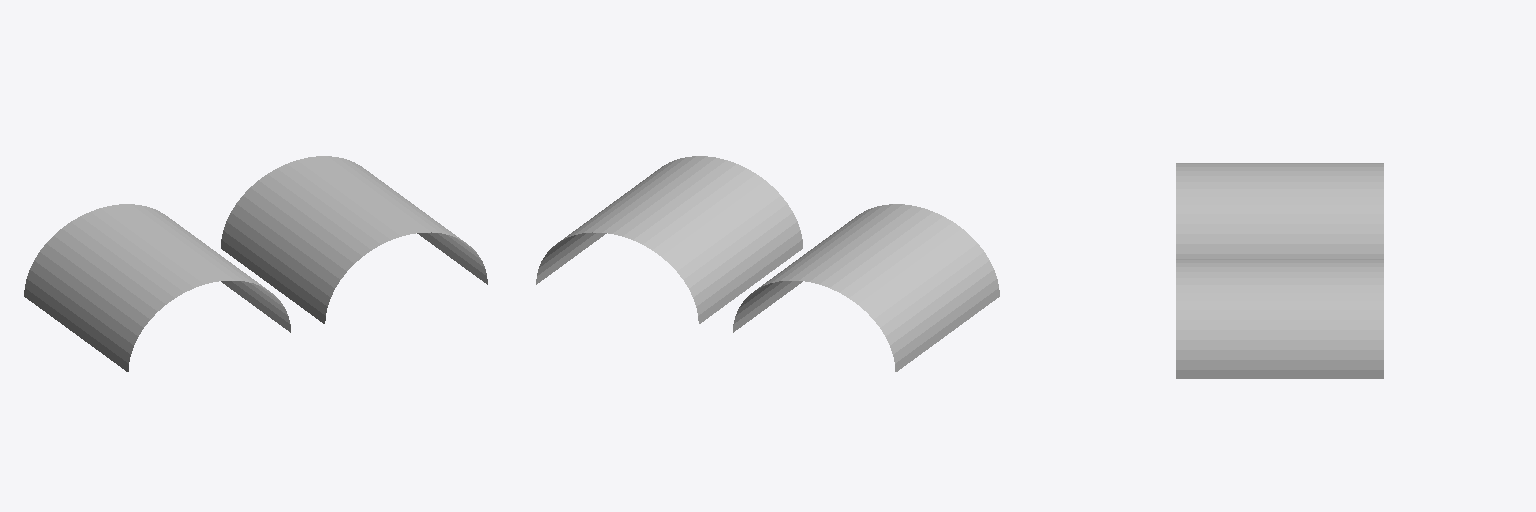
The model's file is InteriorHangar.obj.
3 views of the same model, side by side, from view 1: azimuth 30°, elevation 25°; view 2: azimuth 150°, elevation 25°; view 3: azimuth 270°, elevation 25° (orthographic).
Visible parts, largest first — view 1: InteriorHangar_Plane.020; view 2: InteriorHangar_Plane.020; view 3: InteriorHangar_Plane.020.
Boxes of the visible parts, x1=… form: InteriorHangar_Plane.020: x1=24, y1=156, x2=487, y2=371; InteriorHangar_Plane.020: x1=536, y1=156, x2=999, y2=371; InteriorHangar_Plane.020: x1=1176, y1=163, x2=1383, y2=378.
Size of the model in its own units: 80.63 by 14.95 by 40.56.